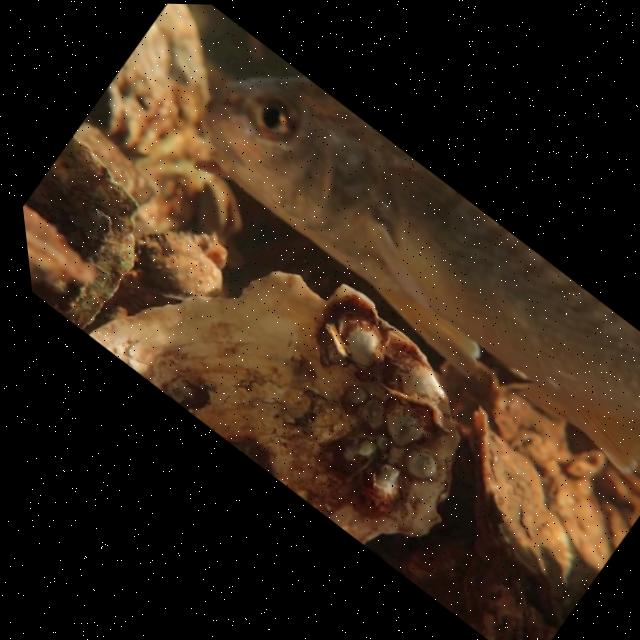Oyster-Closed: (467, 404, 576, 588), (130, 231, 232, 304)
Oyster-Indeterminate: (88, 268, 464, 545), (23, 135, 139, 330)
